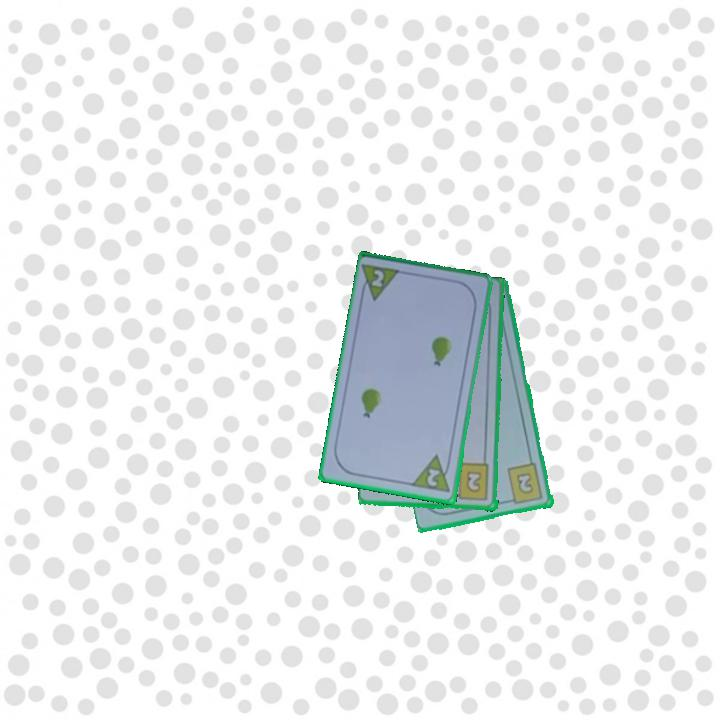2b: (504, 460, 546, 507), (449, 461, 492, 503)
2p: (409, 452, 454, 496), (367, 266, 387, 290)
